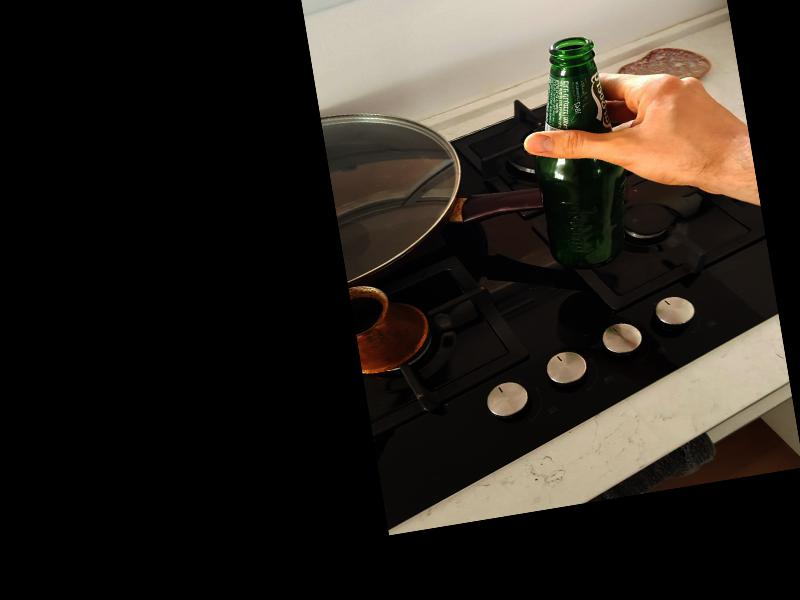Beer: (517, 36, 630, 274)
